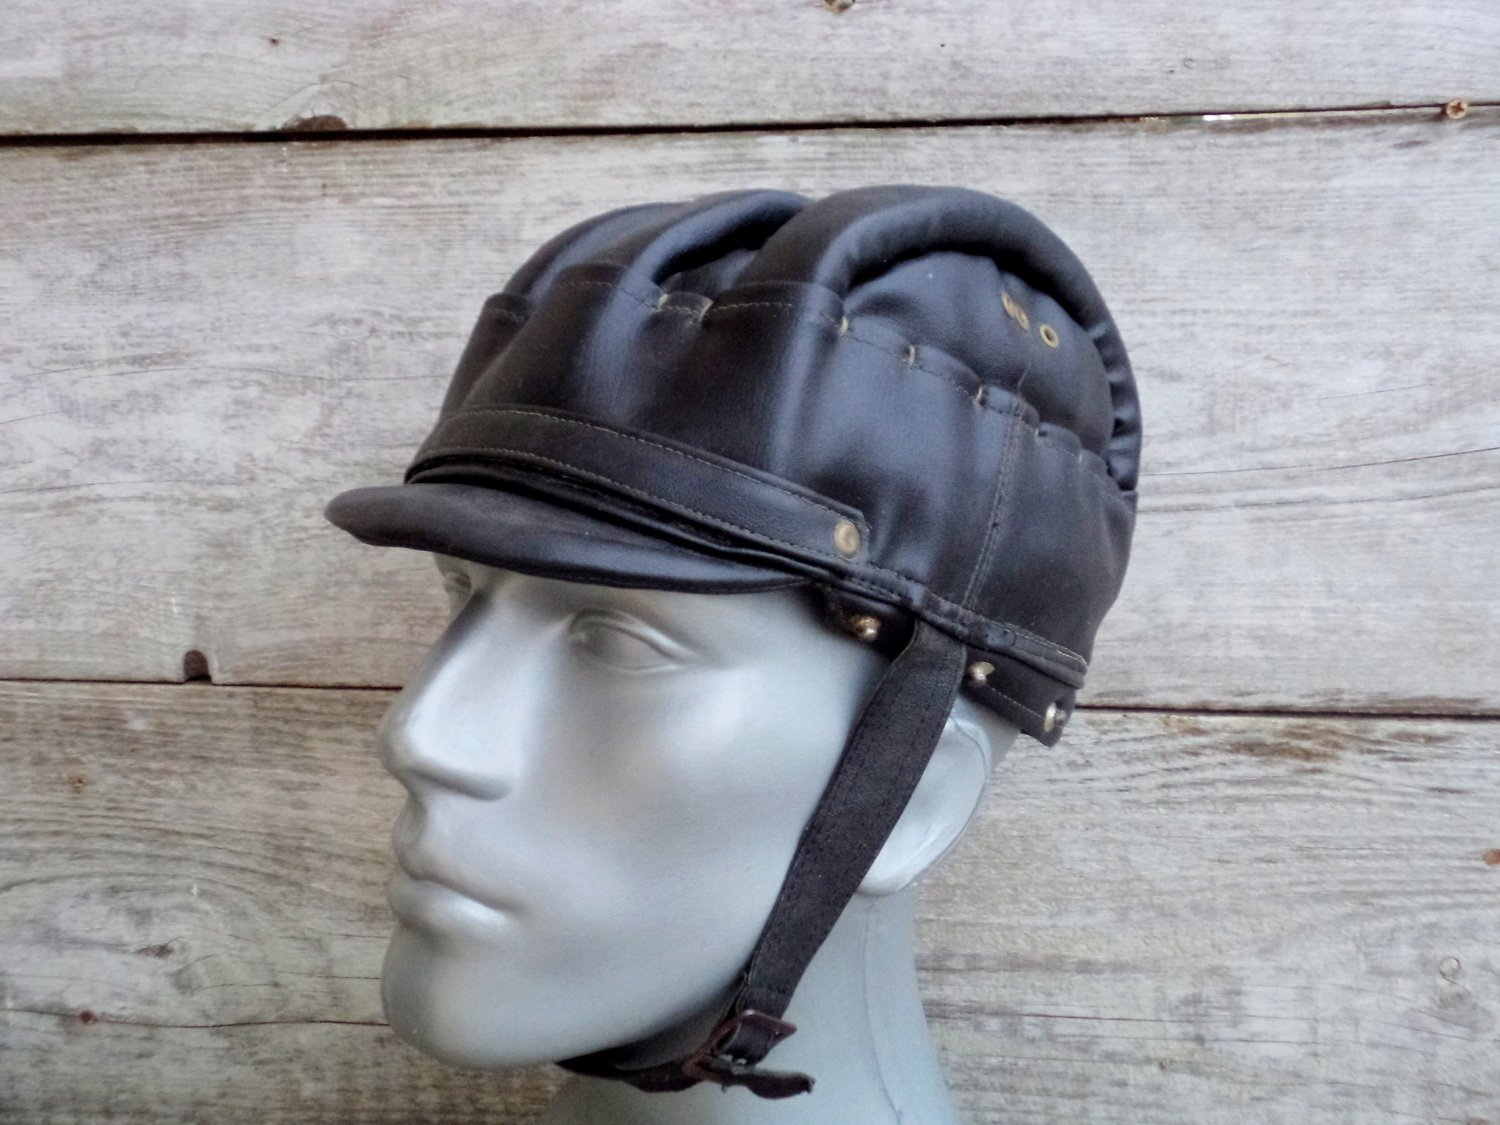with_helmet: (324, 173, 1133, 760)
